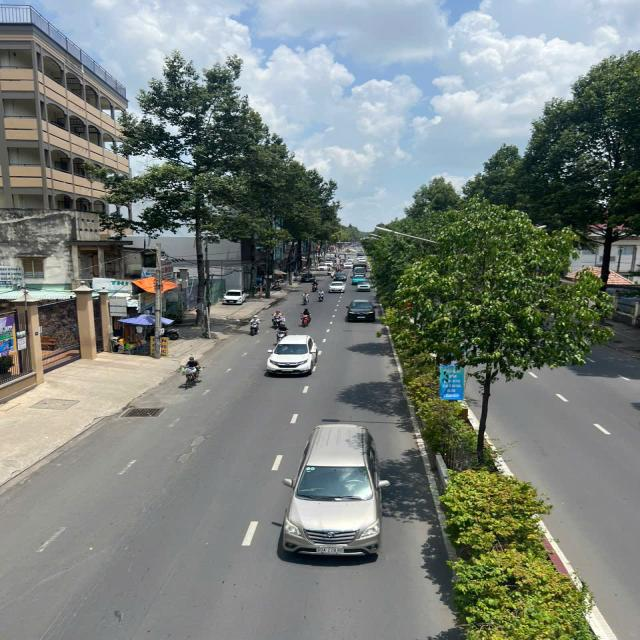car: (275, 417, 392, 564), (262, 328, 322, 378), (344, 296, 378, 326), (218, 285, 247, 308), (354, 278, 374, 293), (328, 279, 346, 294), (332, 271, 348, 284)
motobyte: (274, 320, 290, 346), (269, 307, 286, 331), (247, 312, 263, 336), (298, 304, 313, 329), (299, 290, 312, 304), (310, 277, 320, 294), (316, 288, 328, 302)
